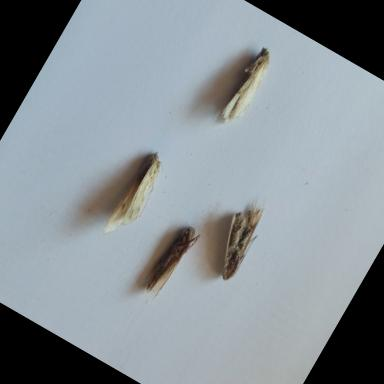abw: (202, 187, 277, 284), (101, 148, 172, 246), (215, 44, 279, 132), (138, 220, 202, 306)
